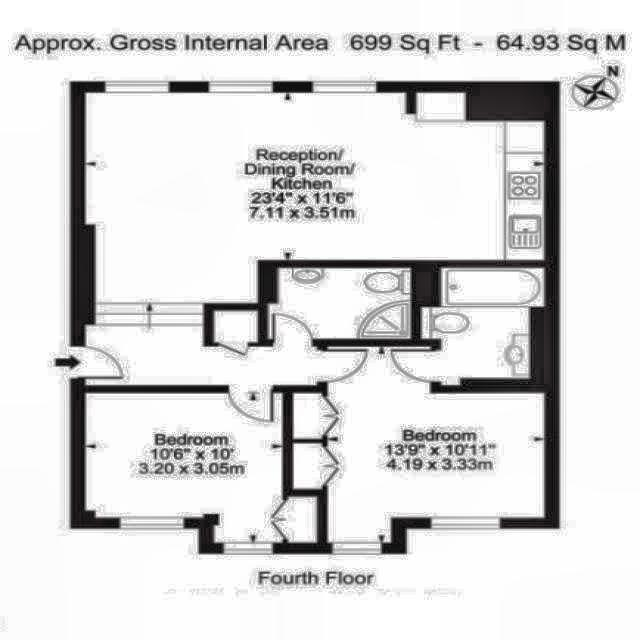room: (83, 92, 543, 324), (294, 393, 545, 543), (86, 392, 319, 543), (85, 345, 431, 388), (422, 268, 545, 386), (268, 267, 413, 340), (213, 311, 256, 343)
